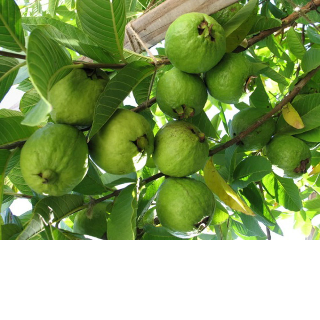oi: (18, 122, 91, 197), (85, 105, 155, 181), (46, 64, 116, 133), (162, 12, 228, 75), (145, 120, 214, 179), (155, 174, 217, 238), (153, 64, 211, 120), (203, 51, 259, 106), (263, 130, 313, 183)
